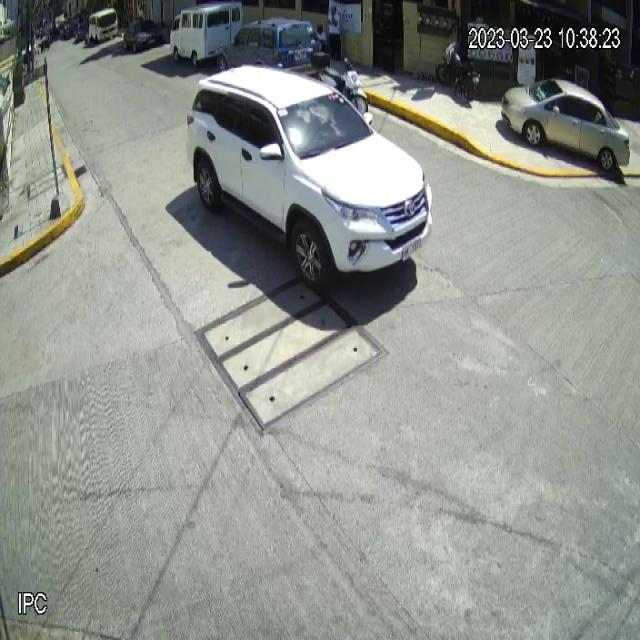Car: (185, 62, 432, 290), (501, 79, 631, 172)
Van: (169, 0, 243, 67)
